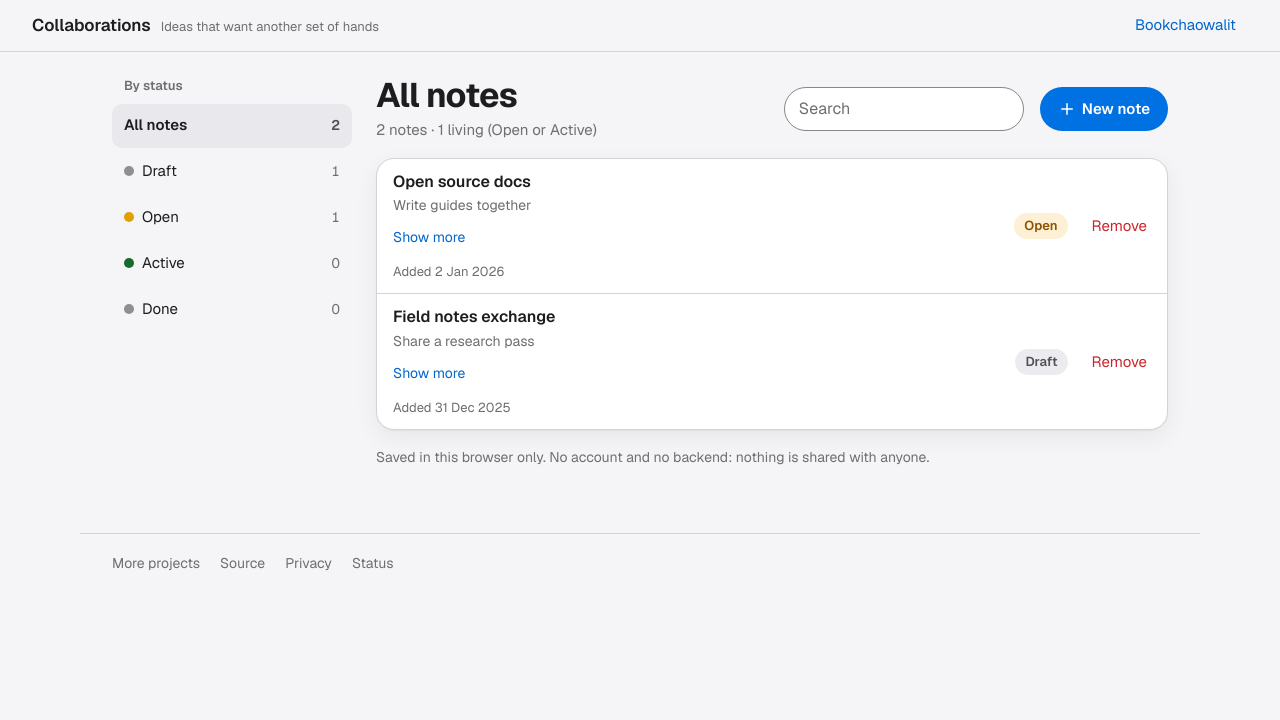
Test: full note detail › a note detail clipped to one line gets Show more, which opens the full text
The width and height of the screenshot is (1280, 720).
Click the button "Show more" below "Write guides together" at (429, 238), box [393, 216, 465, 260]
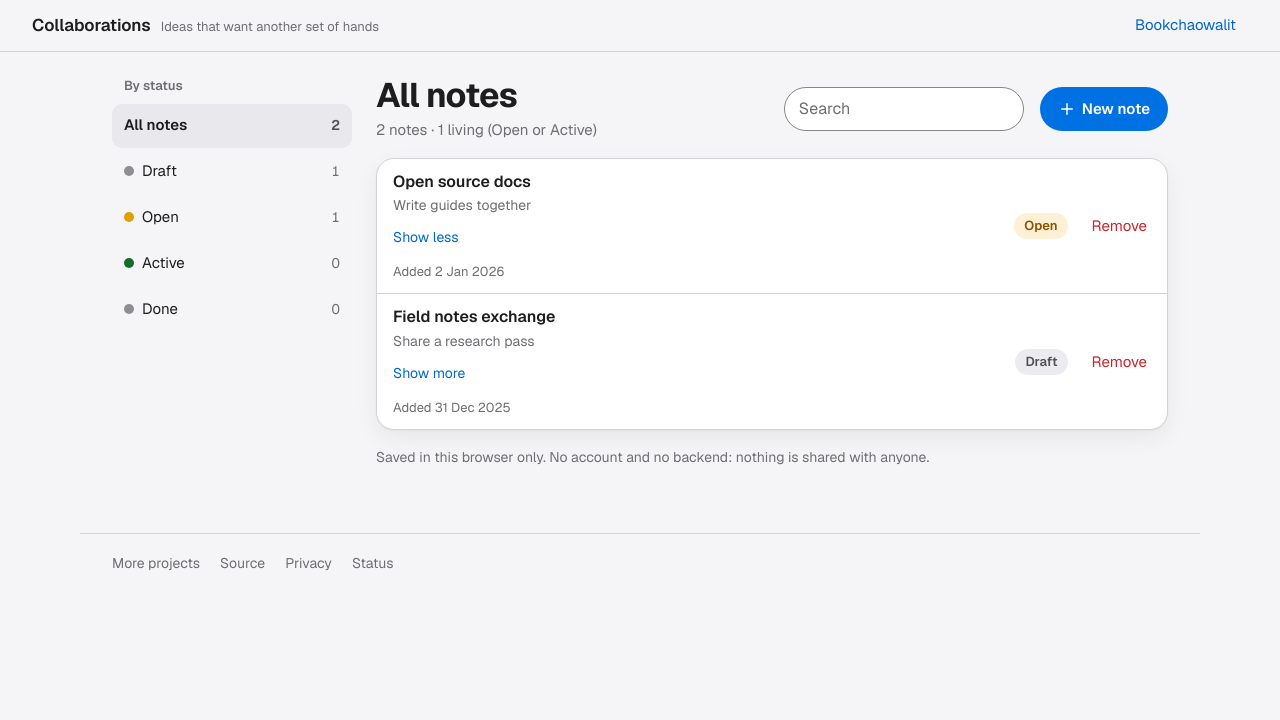
Expected: the button "Show less" is expanded, [393, 216, 458, 260]
